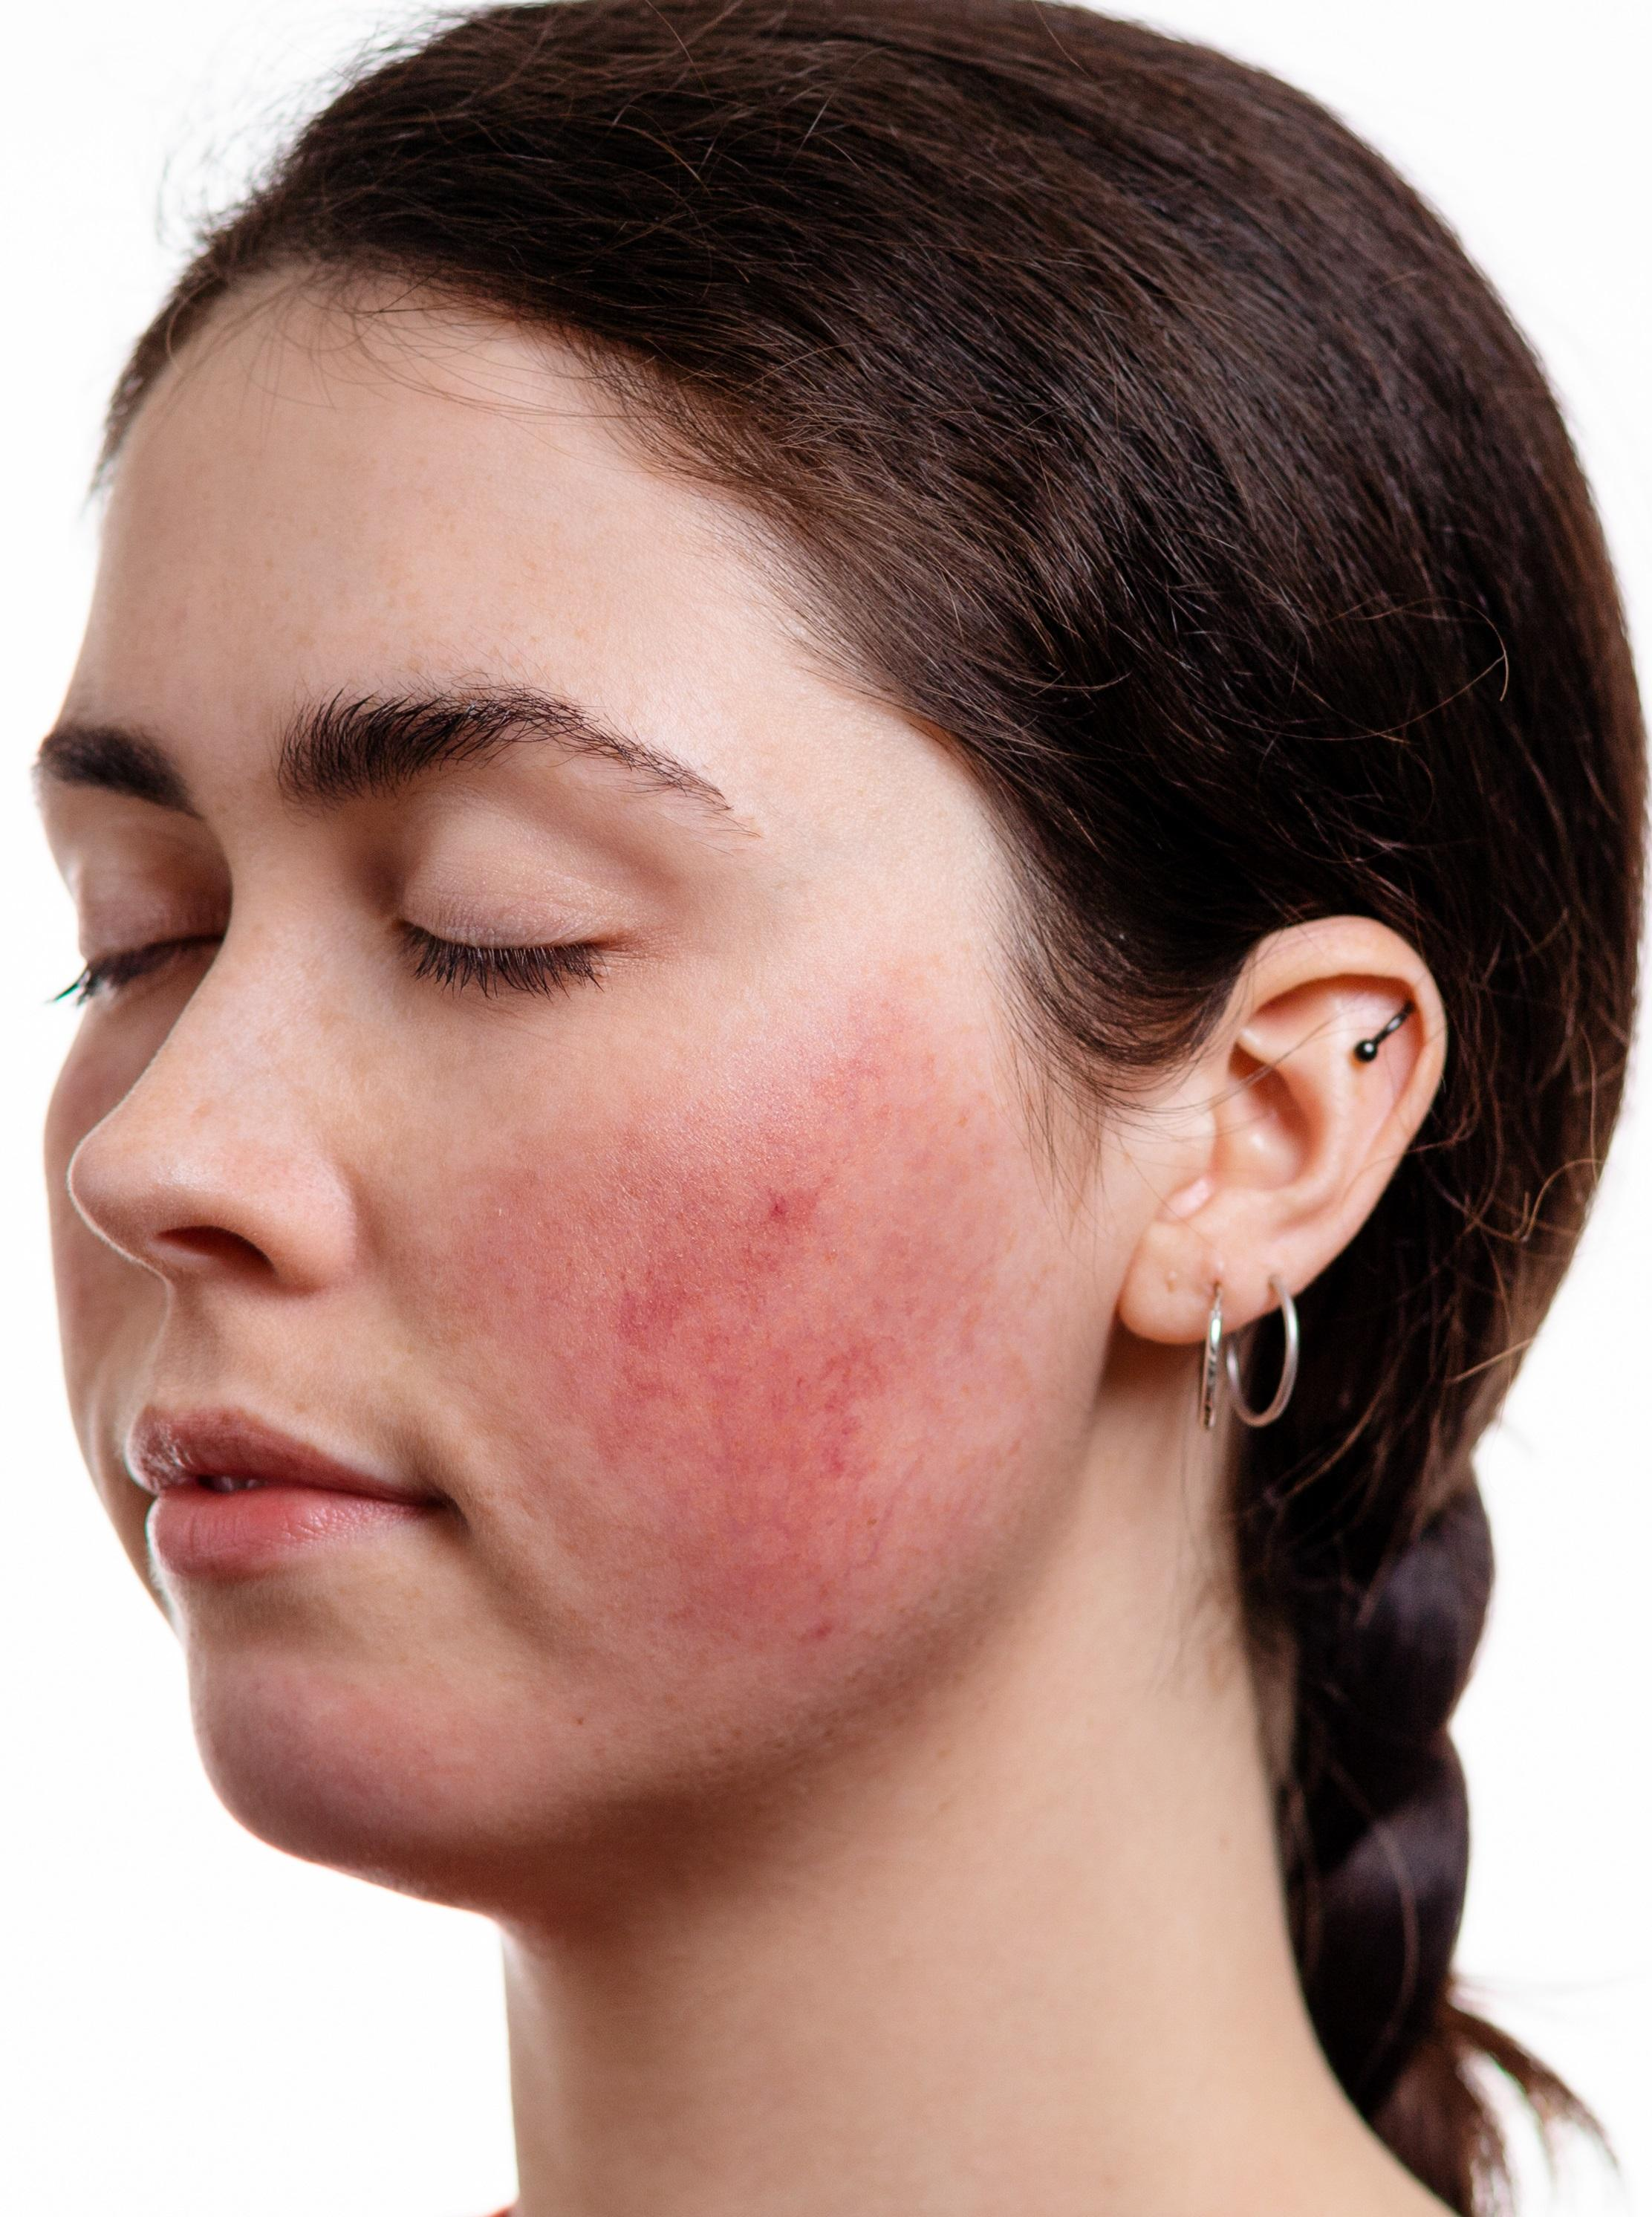Skin-Redness: (534, 1095, 970, 1672)
